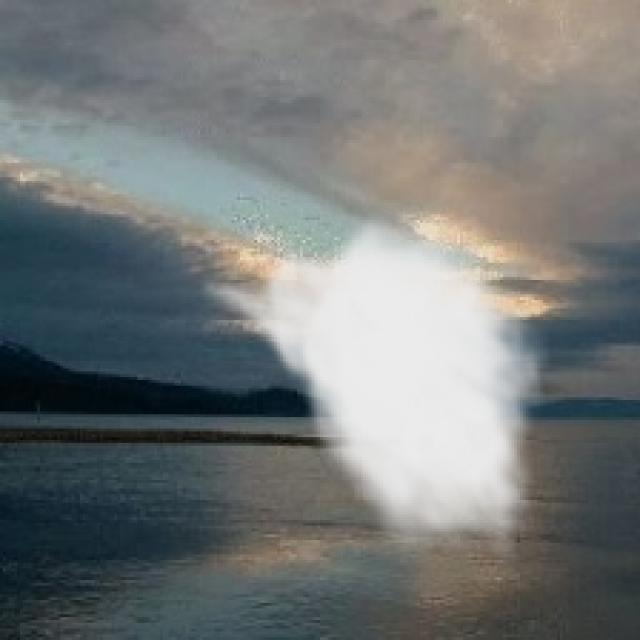smoke: (194, 206, 552, 568)
